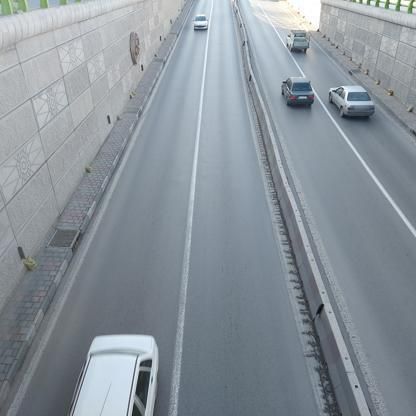Car: (86, 324, 166, 416), (323, 80, 386, 120), (277, 78, 317, 111), (283, 29, 315, 52), (187, 10, 208, 34)
